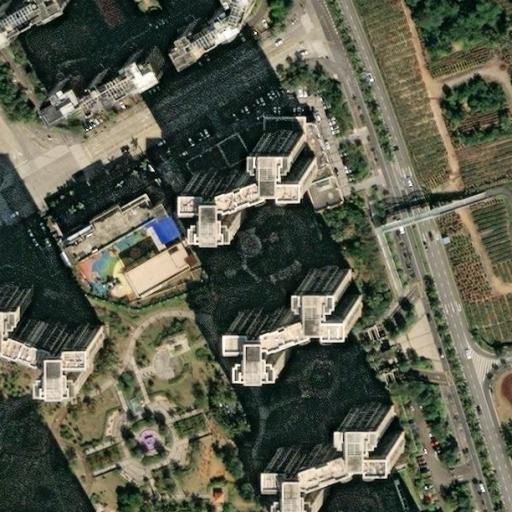building: (232, 270, 358, 357), (192, 137, 319, 223), (282, 407, 408, 493), (60, 50, 184, 127), (181, 117, 275, 183), (100, 196, 171, 252), (125, 243, 190, 298), (70, 227, 114, 264), (266, 118, 308, 137), (156, 222, 182, 245), (155, 333, 180, 351), (50, 248, 65, 266), (176, 242, 189, 257), (205, 490, 217, 500), (146, 344, 155, 352)
